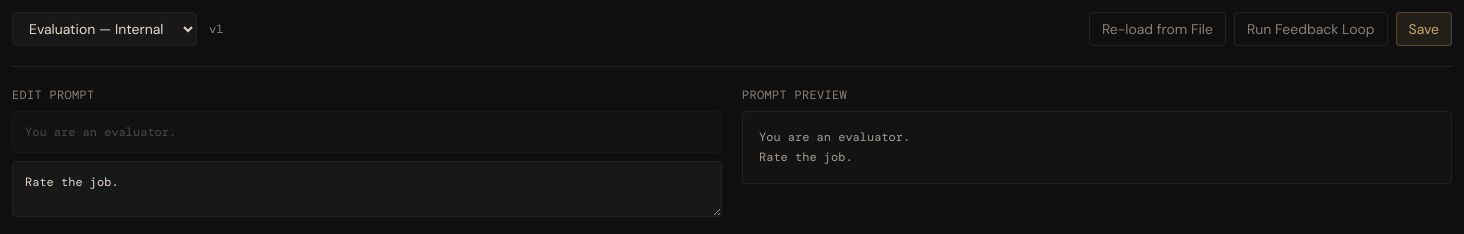
PromptEditor › save flow › clears saved confirmation when textarea content changes
Expected: the text box showing "Rate the job." is shown, [12,161,722,217]
Click the button "Save".
click(1424, 29)  # box [1396,12,1452,46]
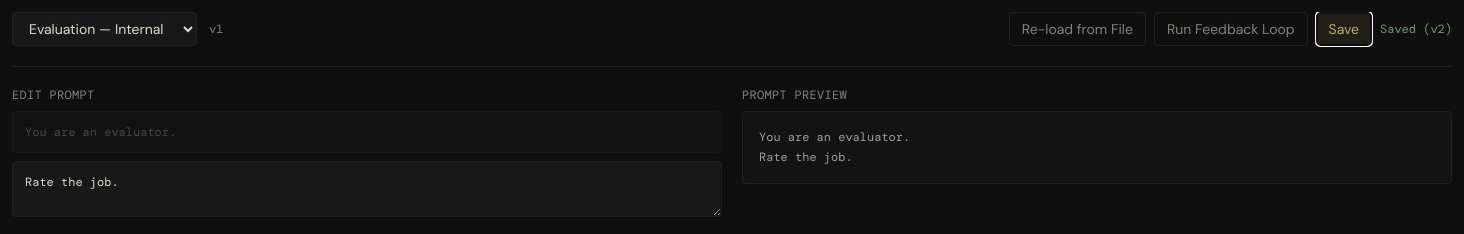
Expected: the text "Saved (v2)" is shown, [1380,21,1452,37]
Type " Updated." into the text box showing "Rate the job.".
click(367, 189); type(" Updated.")  # box [12,161,722,217]
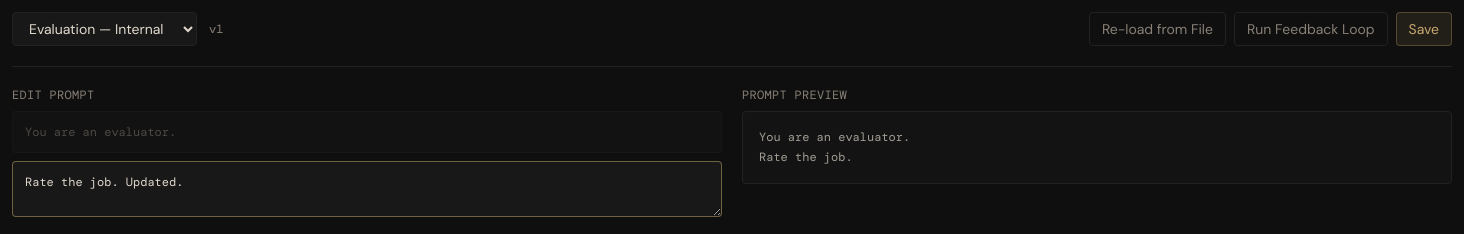
Expected: the text "Saved (v2)" is gone
